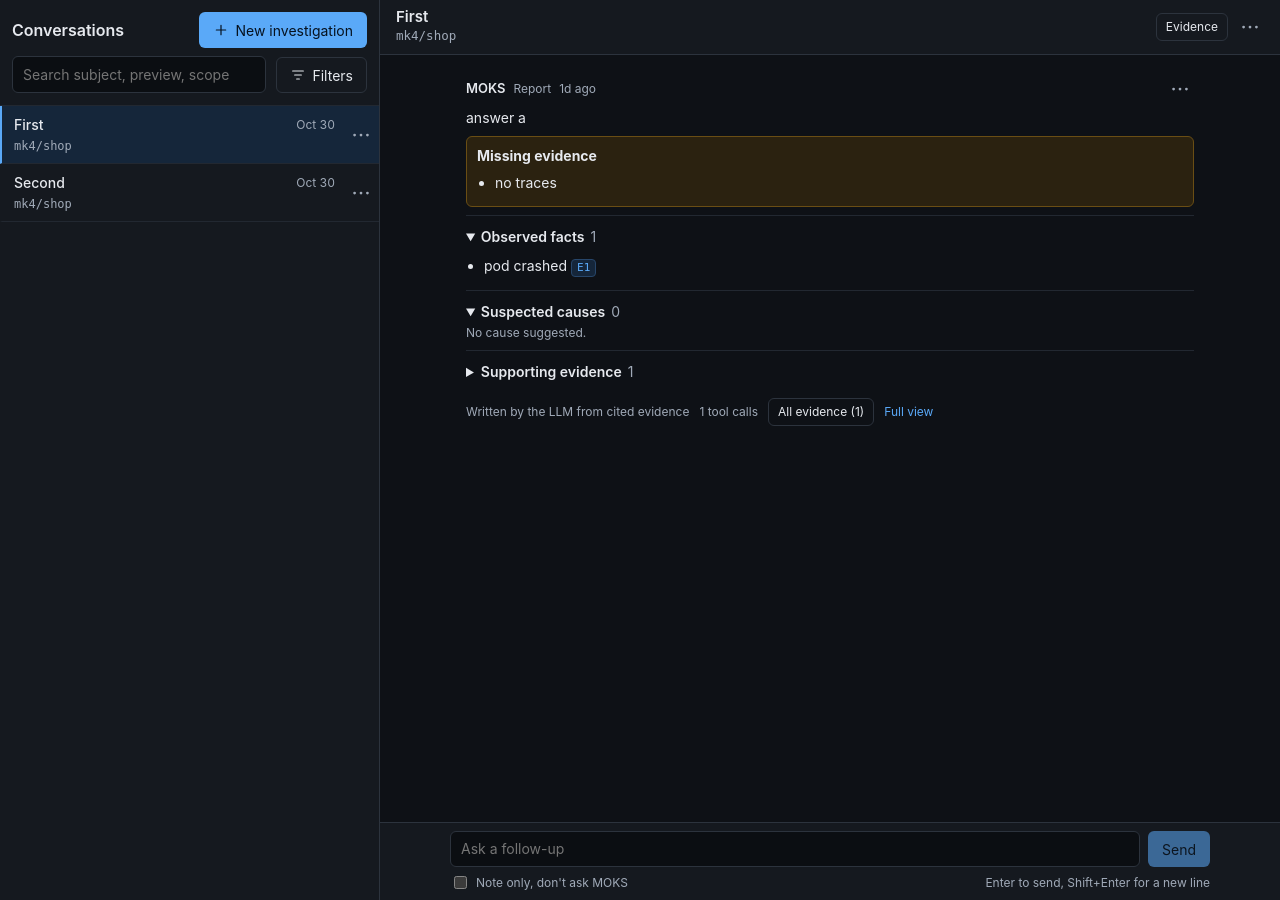
Test: workspace › makes evidence a modal sheet on a phone, closed by Escape
Check: the list item "no traces" is shown, box [495, 174, 557, 190]
Click the button "Evidence" at (1192, 27), box [1156, 13, 1228, 41]
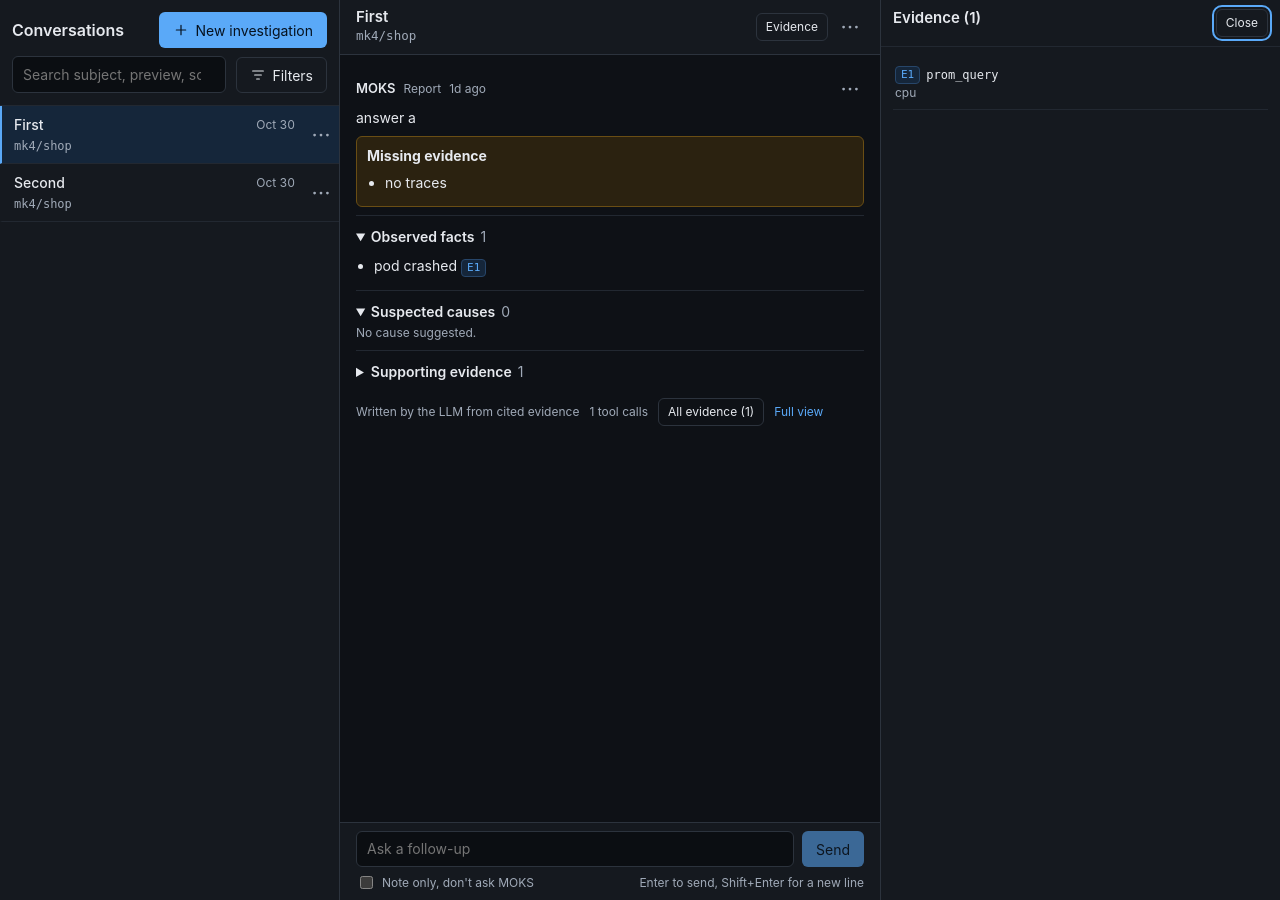
Press Escape
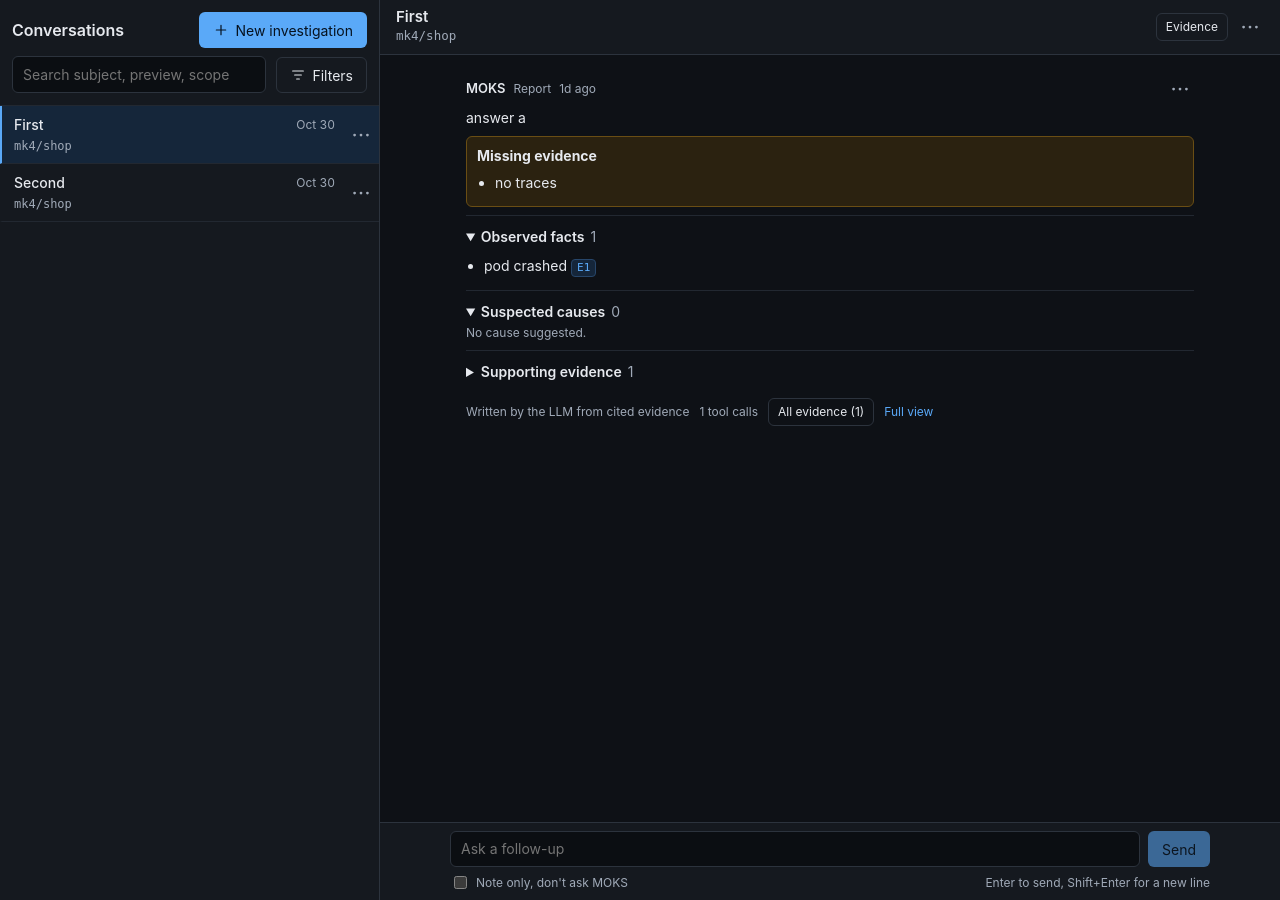
Check: the dialog is gone
